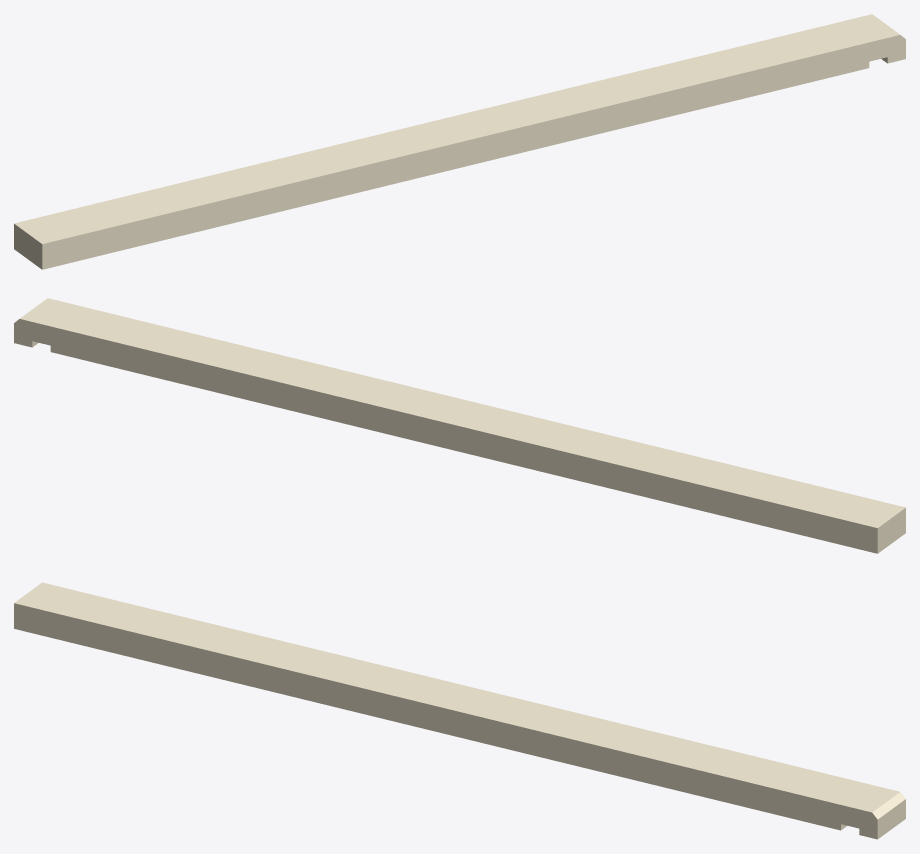
File: original-34.obj
3 views of the same model, one above another, from view 1: azimuth 30°, elevation 25°; view 2: azimuth 150°, elevation 25°; view 3: azimuth 330°, elevation 25° (orthographic).
Parts seen in each view (by area): view 1: leaf_support1/leaf_support/mesh76/mesh76-geometry#mesh76-geometr; view 2: leaf_support1/leaf_support/mesh76/mesh76-geometry#mesh76-geometr; view 3: leaf_support1/leaf_support/mesh76/mesh76-geometry#mesh76-geometr.
Part boxes in pixels (x1=…): leaf_support1/leaf_support/mesh76/mesh76-geometry#mesh76-geometr: x1=14, y1=14, x2=905, y2=269; leaf_support1/leaf_support/mesh76/mesh76-geometry#mesh76-geometr: x1=14, y1=298, x2=905, y2=553; leaf_support1/leaf_support/mesh76/mesh76-geometry#mesh76-geometr: x1=14, y1=582, x2=905, y2=839.
Size of the model in its own units: 0.672 by 0.0191 by 0.0381.
